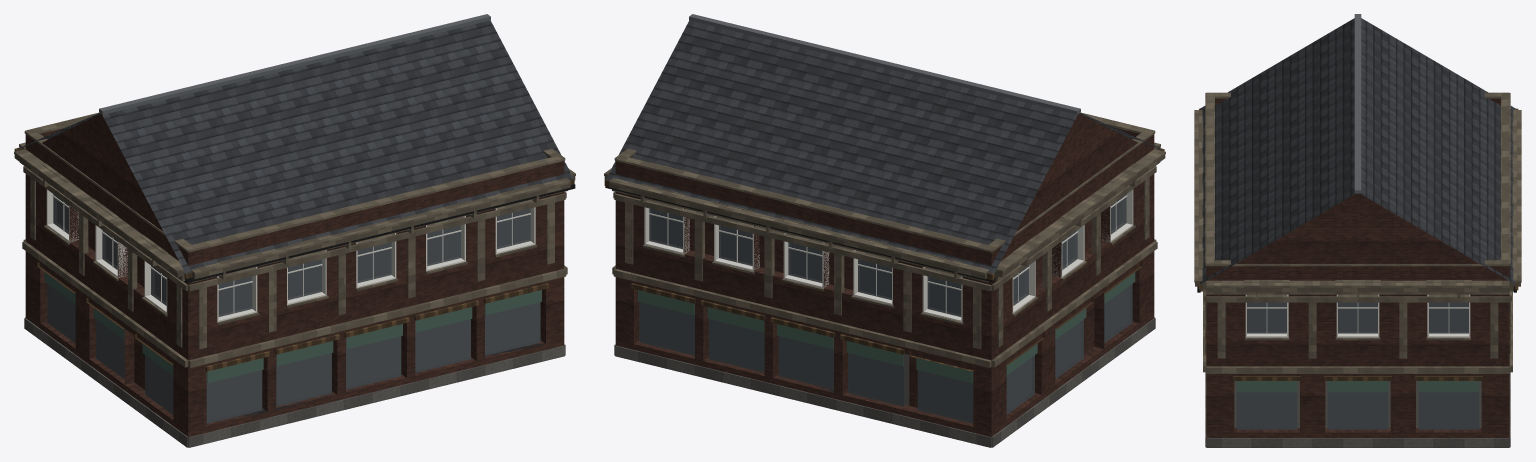
Rendered from B_pub.glb.
The picture shows the model from 3 angles, left to right: view 1: azimuth 30°, elevation 25°; view 2: azimuth 150°, elevation 25°; view 3: azimuth 270°, elevation 25°; orthographic projection. The views are drawn at different scales.
Visible parts, largest first — view 1: B_pub; view 2: B_pub; view 3: B_pub.
Part boxes in pixels (bbox=[...]): B_pub: bbox=[14, 14, 575, 447]; B_pub: bbox=[604, 14, 1165, 447]; B_pub: bbox=[1194, 14, 1521, 447].
Size of the model in its own units: 16.98 by 11.36 by 12.98.
13 materials, 8 textured.
